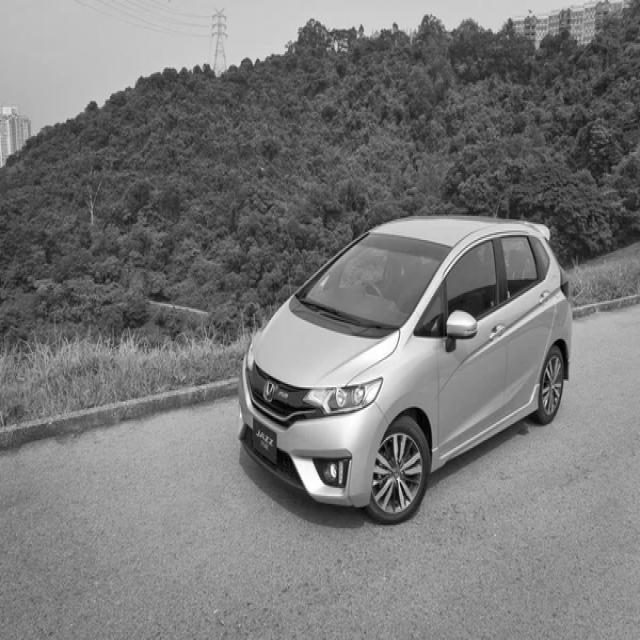Car: (238, 218, 574, 524)
